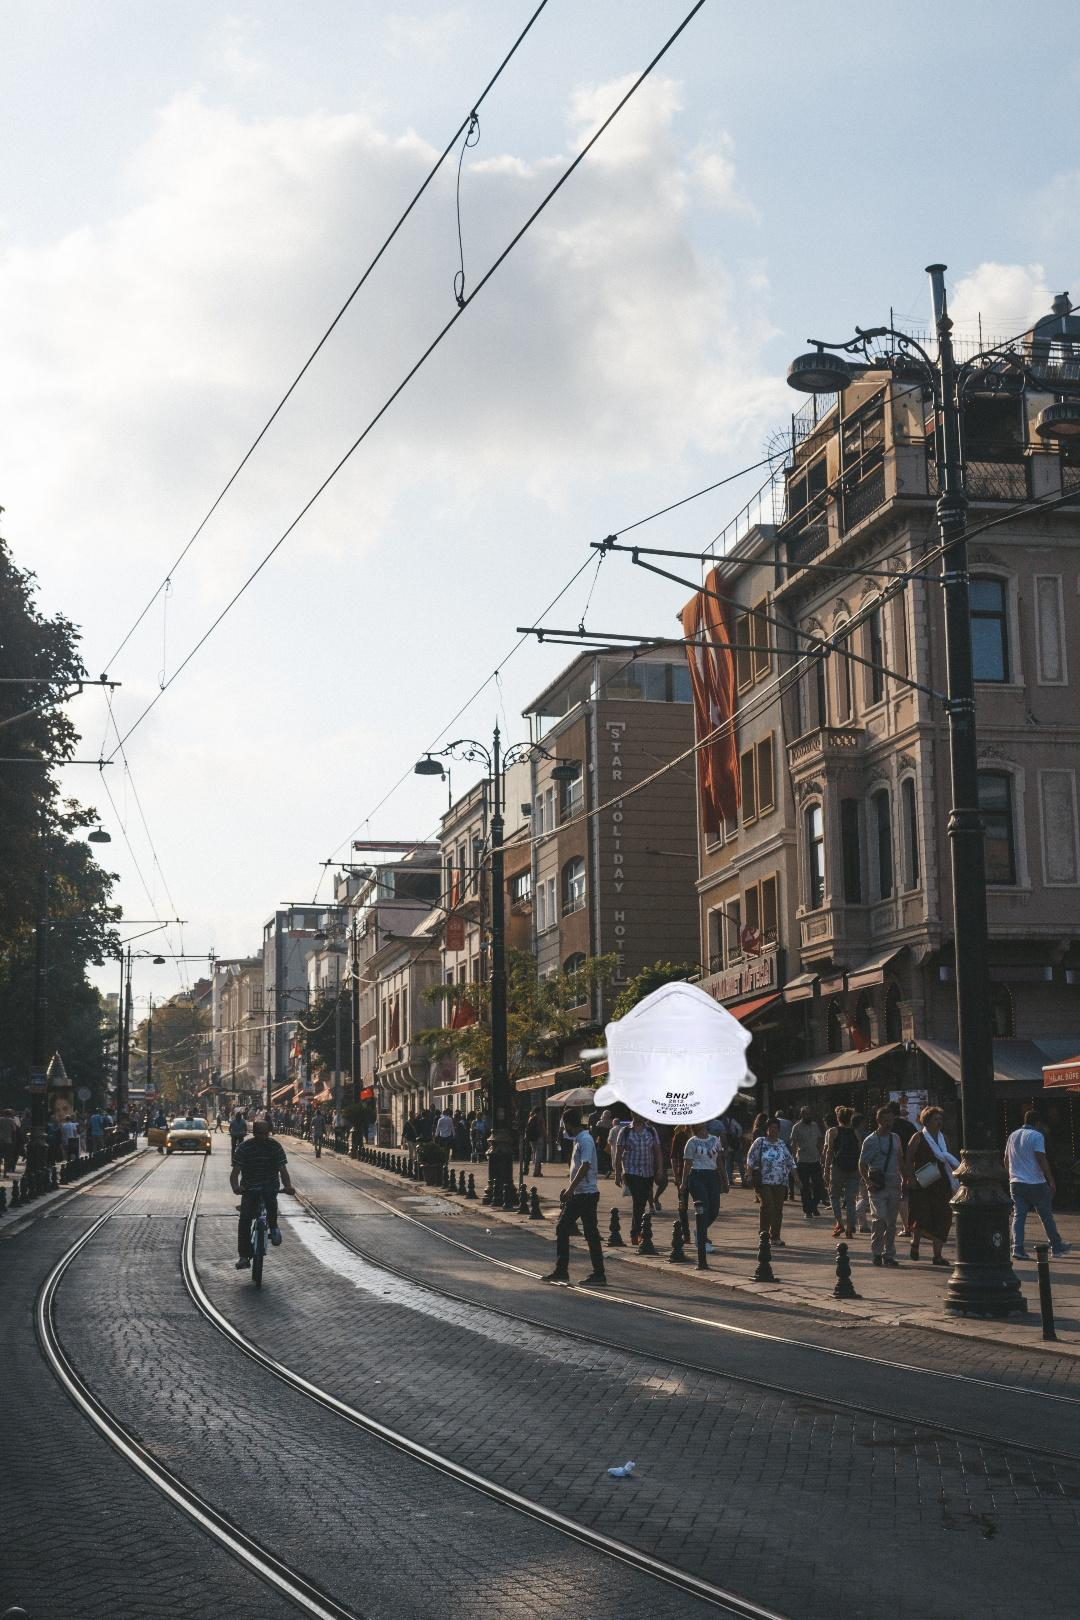trash: (574, 978, 771, 1127)
